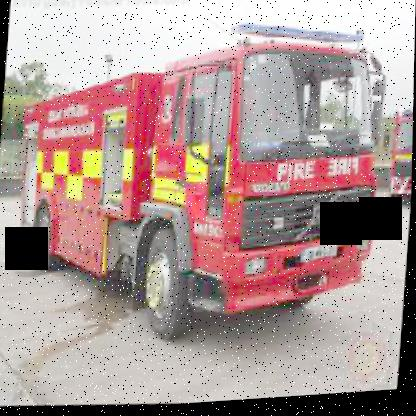emergency: (5, 10, 403, 386)
